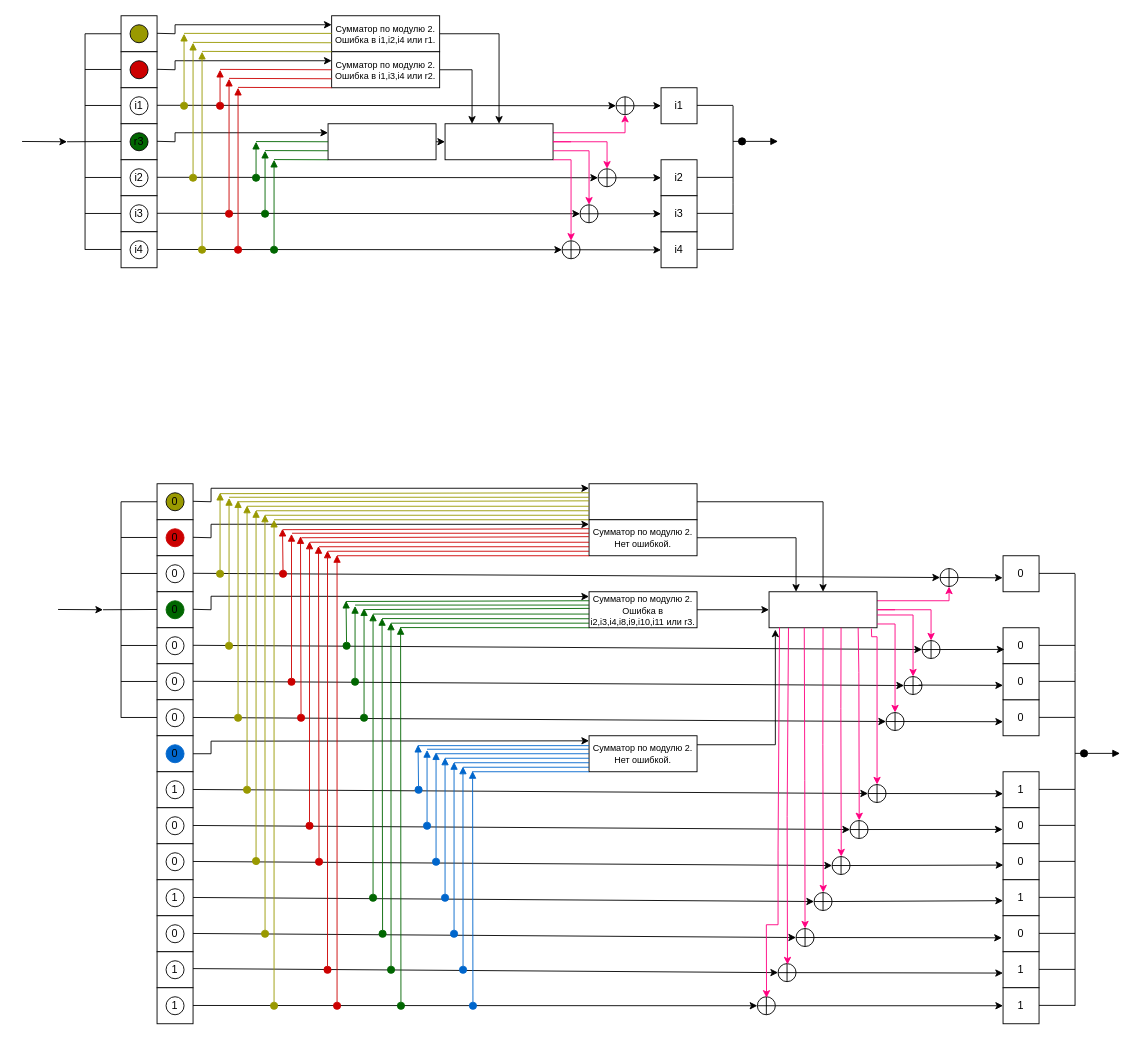
The diagram is 1146 pixels wide and 1040 high, and some of its shapes have lost their labels. Each missing label, with the centre of its shape:
r1: the point at 138,33
r2: the point at 138,69
Сумматор по модулю 2. Нет ошибкой.: the point at 642,501
Сумматор по модулю 2. Ошибка в i2,i3,i4 или r3.: the point at 381,141
Цифровой корректор ошибок: the point at 498,141
Цифровой корректор ошибок (Ошибка в r3): the point at 822,609
